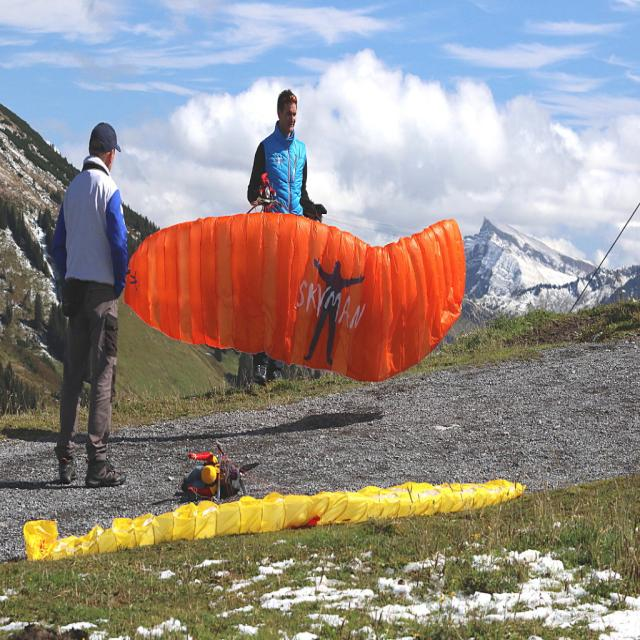paraglider: (122, 208, 467, 384)
